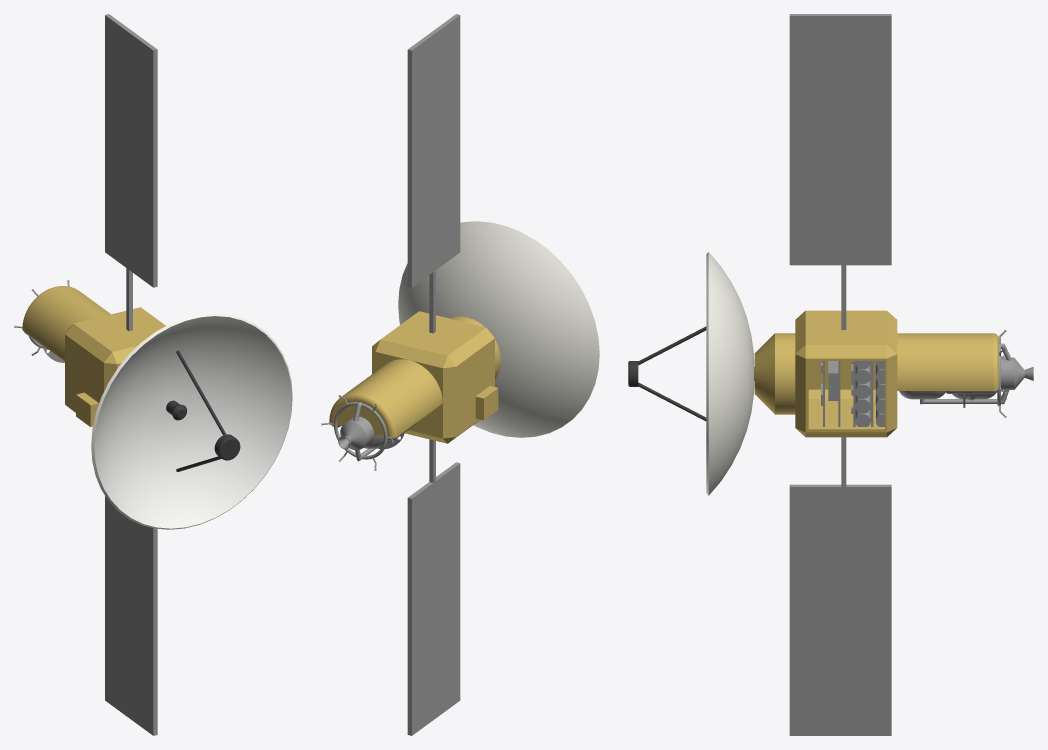
The model's file is CubeSat.obj.
3 views of the same model, side by side, from view 1: azimuth 30°, elevation 25°; view 2: azimuth 150°, elevation 25°; view 3: azimuth 270°, elevation 25° (orthographic). The views are drawn at different scales.
Visible parts, largest first — view 1: Body4, Body3, Body2, Body1, Body8, Body6; view 2: Body4, Body3, Body2, Body1, Body8, Body21, Body37; view 3: Body3, Body2, Body1, Body4, Body8, Body6, Body21.
Boxes of the visible parts, x1,y1,x2,y2 form: Body4: [91, 313, 292, 529]; Body3: [105, 14, 157, 331]; Body2: [105, 496, 157, 735]; Body1: [65, 307, 165, 426]; Body8: [22, 286, 110, 360]; Body6: [176, 350, 240, 471]; Body4: [398, 221, 599, 437]; Body3: [407, 14, 460, 333]; Body2: [407, 439, 460, 735]; Body1: [372, 311, 500, 443]; Body8: [329, 359, 442, 437]; Body21: [338, 416, 373, 450]; Body37: [333, 402, 387, 459]; Body3: [789, 14, 891, 329]; Body2: [789, 437, 891, 735]; Body1: [754, 310, 897, 437]; Body4: [706, 252, 754, 495]; Body8: [897, 333, 998, 390]; Body6: [628, 326, 706, 421]; Body21: [1001, 357, 1033, 389].
Size of the model in its own units: 24 by 77.96 by 39.8.
